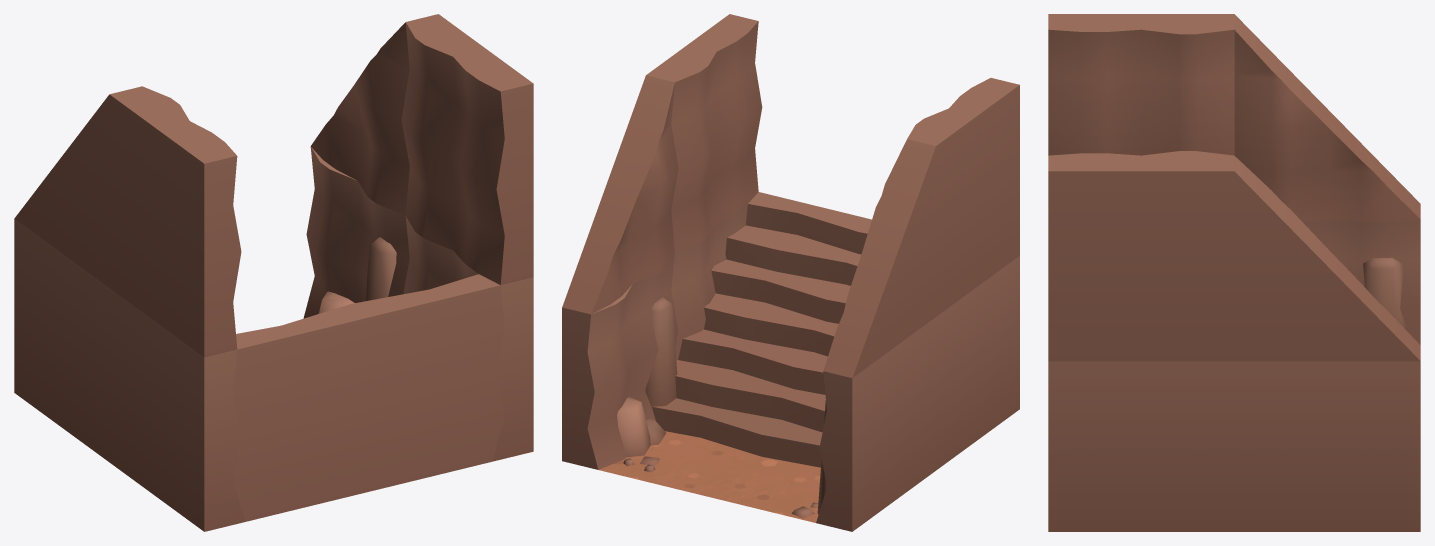
File: stairs-wide.glb
3 renders of one model, left to right at view 1: azimuth 30°, elevation 25°; view 2: azimuth 150°, elevation 25°; view 3: azimuth 270°, elevation 25°, orthographic. The views are drawn at different scales.
Parts seen in each view (by area): view 1: stairs-wide; view 2: stairs-wide; view 3: stairs-wide.
Part boxes in pixels (x1=…): stairs-wide: x1=14, y1=14, x2=533, y2=531; stairs-wide: x1=562, y1=14, x2=1019, y2=531; stairs-wide: x1=1048, y1=14, x2=1420, y2=531.
Size of the model in its own units: 8 by 8.55 by 8.
Materials: 1 (1 with a texture image).
